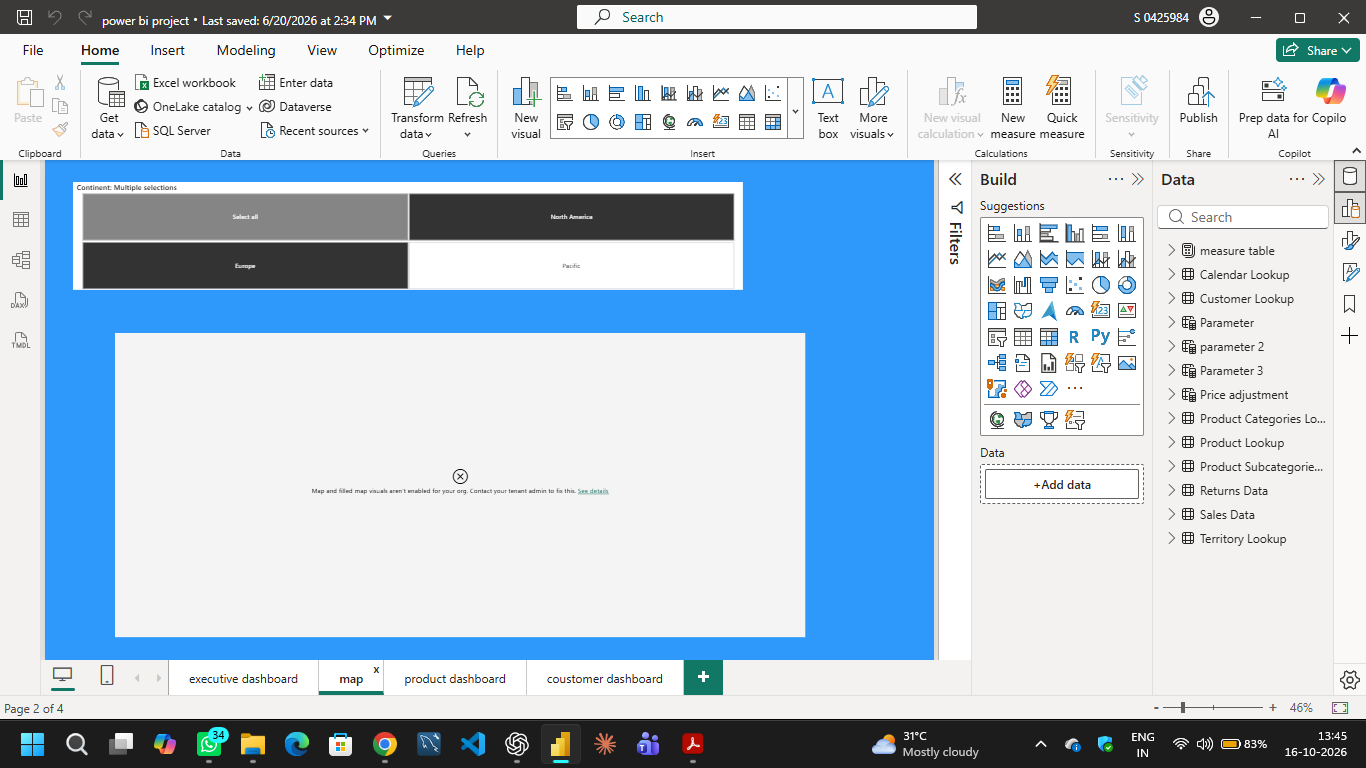

What the dashboard file says about the page in this screenshot:
{"tool":"powerbi","page":{"name":"map","canvas":[1920,1080],"ordinal":1},"visuals":[{"type":"slicer","fields":{"Values":["Territory Lookup.Continent"]},"box":[60,48.6,1447.1,232.9],"z":0},{"type":"map","fields":{"Category":["Territory Lookup.Country"],"Size":["measure table.t revenue"]},"box":[150.2,372.7,1490.9,657],"z":1000}]}

Visuals, with their boxes on the page's 1920x1080 design canvas (x1, y1, x2, y2). These are canvas units, not pixel positions in the 1366x768 screenshot, which may show the page scaled, cropped or inside an application window:
slicer - Territory Lookup.Continent: bbox=(60, 49, 1507, 282)
map - Territory Lookup.Country x measure table.t revenue: bbox=(150, 373, 1641, 1030)
